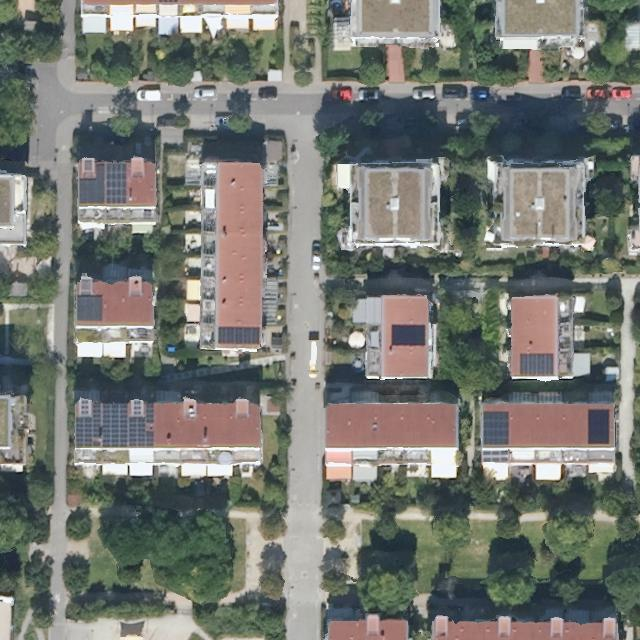PV: (70, 400, 155, 452), (77, 158, 132, 205), (478, 409, 515, 449), (516, 350, 560, 379), (215, 324, 263, 348), (73, 291, 105, 324)
